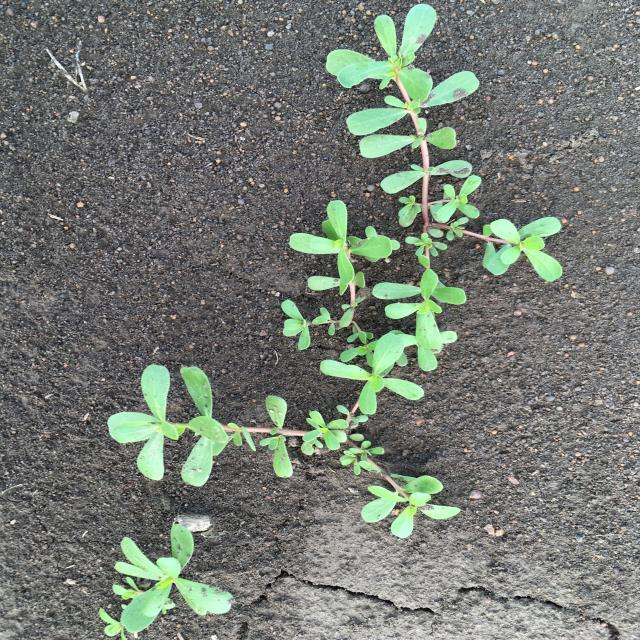Purslane: (325, 3, 562, 350), (107, 330, 461, 539), (282, 200, 400, 367), (99, 524, 233, 640)
